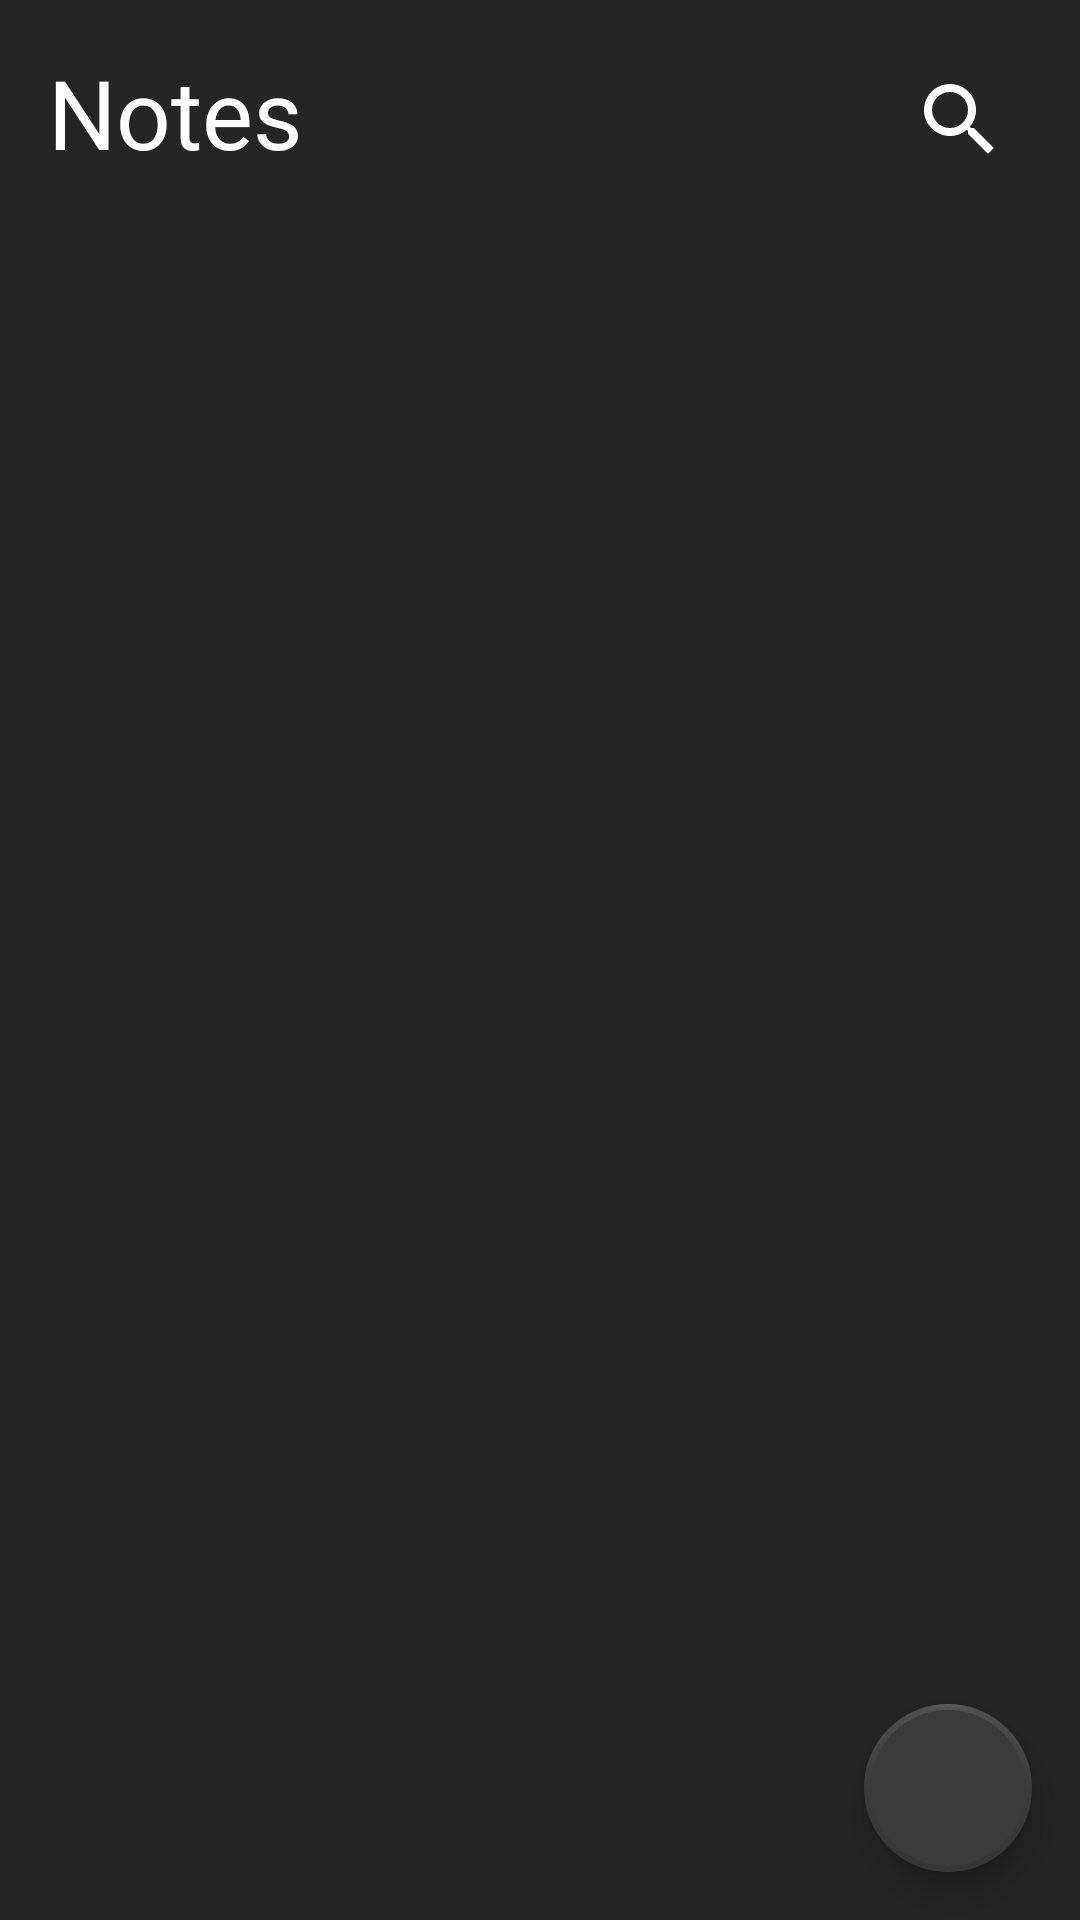

Where icons sit on this 1080×1920 app screen, as (x1, y1, x2, y2):
search: (924, 84, 994, 154)
